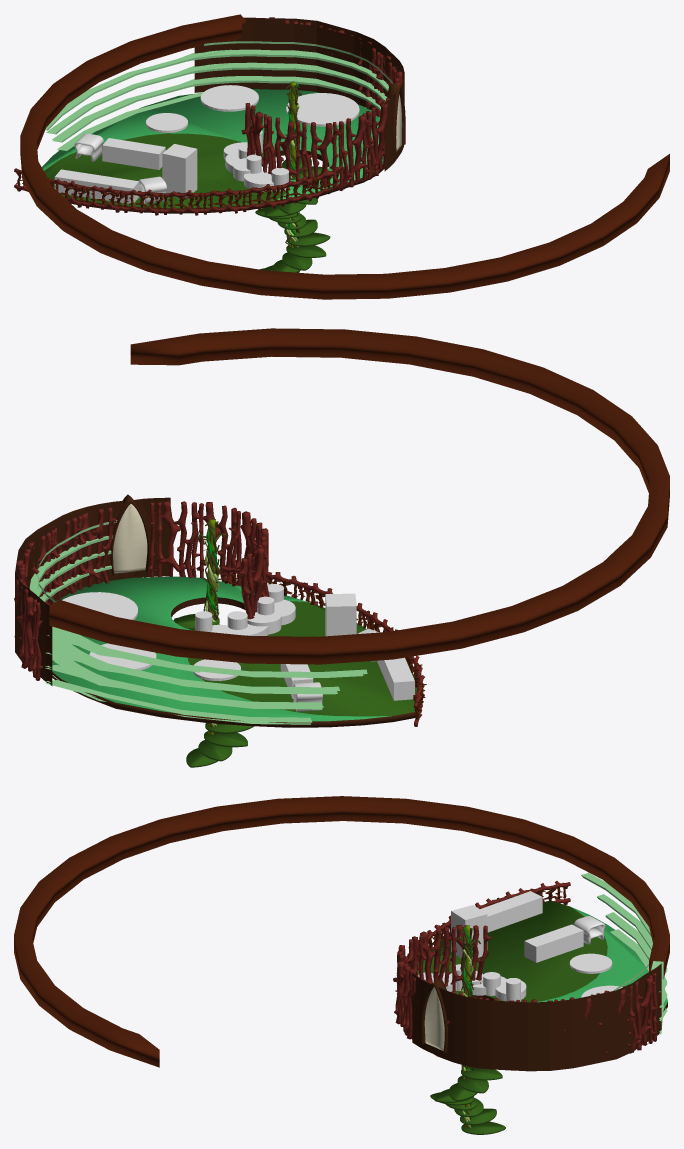
The model's file is Level3.fbx.
3 views of the same model, one above another, from view 1: azimuth 30°, elevation 25°; view 2: azimuth 150°, elevation 25°; view 3: azimuth 270°, elevation 25° (orthographic). The views are drawn at different scales.
Parts seen in each view (by area): view 1: Walls.003, Floor.Platform.Lvl3, Stick.Lvl3.001, ShelfWall.Lvl3.004, Shelves.Lvl3.001, Shelf.Lvl3, Cylinder.001, Stick.Lvl3.003, Cylinder.017, Stick.Lvl3.002, ShelfWall.Lvl3.003, Cube.002 (+6 smaller); view 2: Walls.003, Floor.Platform.Lvl3, Stick.Lvl3.001, Shelf.Lvl3, ShelfWall.Lvl3.004, Shelves.Lvl3.001, Cylinder.001, ShelfWall.Lvl3.003, Cylinder.017, DoorWay.Lvl4, Cube.002, Stick.Lvl3.002 (+3 smaller); view 3: Walls.003, ShelfWall.Lvl3.003, Floor.Platform.Lvl3, Stick.Lvl3.001, Cylinder.017, Shelf.Lvl3, Cube.001, Cube, Cube.002, DoorWay.Lvl4, Cylinder.001, Stick.Lvl3.003 (+3 smaller).
Part boxes in pixels (x1=…): Walls.003: x1=20, y1=14, x2=669, y2=299; Floor.Platform.Lvl3: x1=41, y1=89, x2=384, y2=213; Stick.Lvl3.001: x1=241, y1=17, x2=402, y2=190; ShelfWall.Lvl3.004: x1=194, y1=23, x2=398, y2=110; Shelves.Lvl3.001: x1=119, y1=41, x2=393, y2=110; Shelf.Lvl3: x1=45, y1=49, x2=231, y2=150; Cylinder.001: x1=146, y1=85, x2=359, y2=132; Stick.Lvl3.003: x1=14, y1=166, x2=344, y2=215; Cylinder.017: x1=255, y1=154, x2=330, y2=272; Stick.Lvl3.002: x1=16, y1=167, x2=345, y2=209; ShelfWall.Lvl3.003: x1=244, y1=17, x2=404, y2=171; Cube.002: x1=162, y1=144, x2=197, y2=197; Walls.003: x1=49, y1=328, x2=669, y2=664; Floor.Platform.Lvl3: x1=52, y1=576, x2=420, y2=727; Stick.Lvl3.001: x1=14, y1=501, x2=271, y2=680; Shelf.Lvl3: x1=45, y1=634, x2=367, y2=724; ShelfWall.Lvl3.004: x1=27, y1=498, x2=172, y2=603; Shelves.Lvl3.001: x1=29, y1=520, x2=200, y2=701; Cylinder.001: x1=62, y1=592, x2=240, y2=680; ShelfWall.Lvl3.003: x1=15, y1=497, x2=170, y2=685; Cylinder.017: x1=173, y1=614, x2=253, y2=767; DoorWay.Lvl4: x1=113, y1=504, x2=147, y2=573; Cube.002: x1=325, y1=593, x2=356, y2=636; Stick.Lvl3.002: x1=221, y1=565, x2=426, y2=719; Walls.003: x1=14, y1=796, x2=669, y2=1067; ShelfWall.Lvl3.003: x1=412, y1=963, x2=661, y2=1071; Floor.Platform.Lvl3: x1=411, y1=901, x2=667, y2=1070; Stick.Lvl3.001: x1=393, y1=924, x2=657, y2=1053; Cylinder.017: x1=430, y1=1065, x2=505, y2=1134; Shelf.Lvl3: x1=581, y1=872, x2=663, y2=1034; Cube.001: x1=524, y1=924, x2=583, y2=962; Cube: x1=480, y1=891, x2=542, y2=932; Cube.002: x1=451, y1=905, x2=487, y2=958; DoorWay.Lvl4: x1=424, y1=987, x2=444, y2=1050; Cylinder.001: x1=569, y1=953, x2=622, y2=997; Stick.Lvl3.003: x1=396, y1=881, x2=570, y2=975.
Size of the model in its own units: 2824 by 1065 by 3084.
